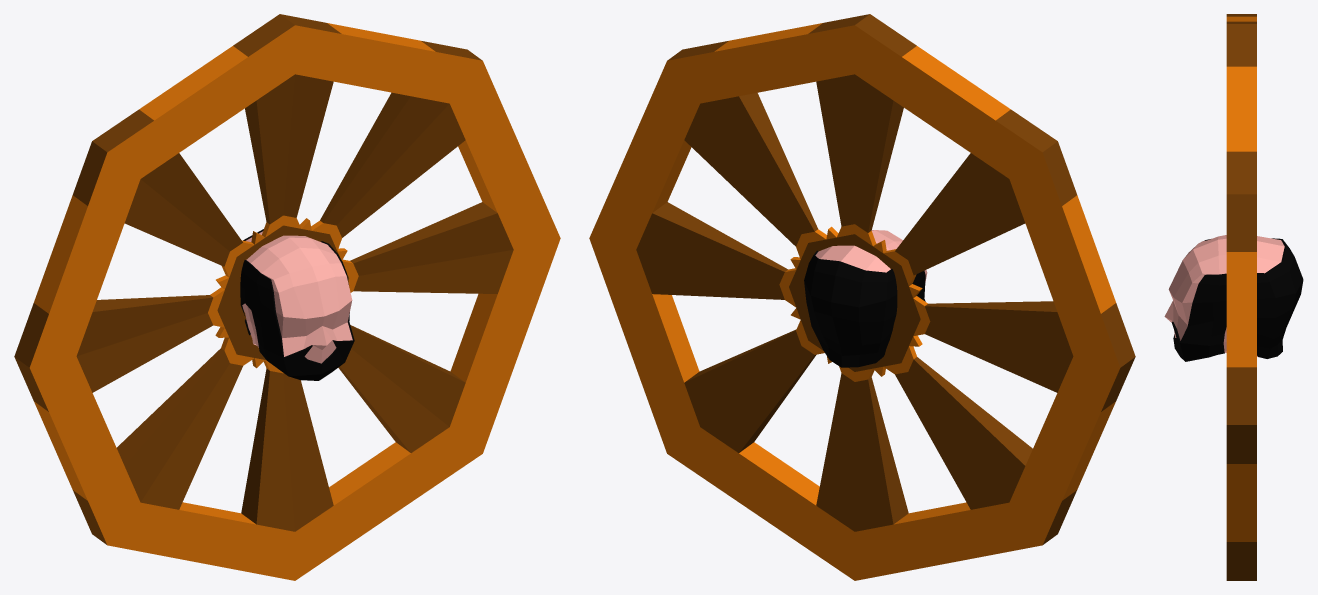
Rendered from BuddhaWheelYokai_early_v03.fbx.
The picture shows the model from 3 angles, left to right: view 1: azimuth 30°, elevation 25°; view 2: azimuth 150°, elevation 25°; view 3: azimuth 270°, elevation 25°; orthographic projection.
Parts seen in each view (by area): view 1: BuddhaWheel, Base, Head; view 2: BuddhaWheel, Head, Base; view 3: BuddhaWheel, Head, Base.
Boxes of the visible parts, x1,y1,x2,y2 form: BuddhaWheel: (14,14,560,580); Base: (242,231,352,363); Head: (240,229,354,380); BuddhaWheel: (589,14,1135,580); Head: (804,250,925,367); Base: (815,230,927,282); BuddhaWheel: (1226,14,1256,580); Head: (1171,238,1303,361); Base: (1164,235,1284,356).
Size of the model in its own units: 357 by 357 by 82.17.
